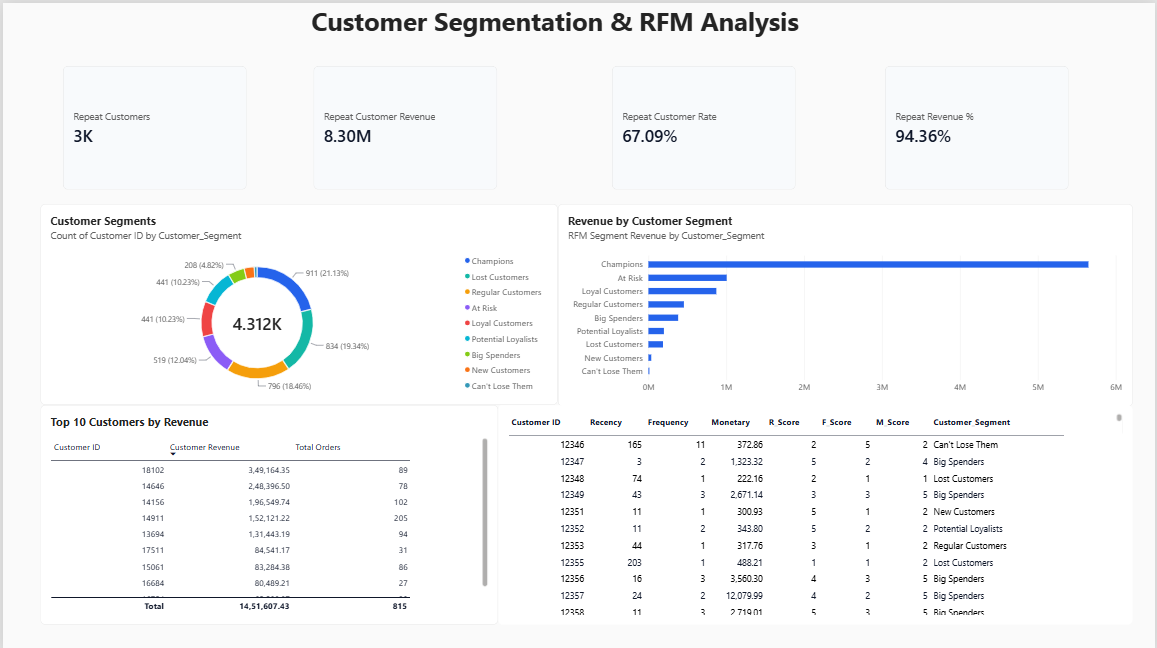

What the dashboard file says about the page in this screenshot:
{"tool":"powerbi","page":{"name":"Customer Analytics","canvas":[1920,1080],"ordinal":1},"visuals":[{"type":"textbox","box":[62.4,0,1715,79.4],"z":0},{"type":"donutChart","title":"Customer Segments","fields":{"Category":["rfm_customer_segments.Customer_Segment"],"Y":["CountNonNull(rfm_customer_segments.Customer ID)"]},"box":[62.4,334.5,861.7,334.5],"z":1000},{"type":"barChart","title":"Revenue by Customer Segment","fields":{"Category":["rfm_customer_segments.Customer_Segment"],"Y":["rfm_customer_segments.RFM Segment Revenue"]},"box":[924.1,334.5,958.1,337.3],"z":2000},{"type":"tableEx","fields":{"Values":["rfm_customer_segments.Customer ID","rfm_customer_segments.Recency","rfm_customer_segments.Frequency","rfm_customer_segments.Monetary","rfm_customer_segments.R_Score","rfm_customer_segments.F_Score","rfm_customer_segments.M_Score","rfm_customer_segments.Customer_Segment"]},"box":[824.9,669,1057.3,365.7],"z":3000},{"type":"tableEx","title":"Top 10 Customers by Revenue","fields":{"Values":["rfm_customer_segments.Customer ID","rfm_customer_segments.Customer Revenue","cleaned_online_retail.Total Orders"]},"box":[62.4,669,762.5,365.7],"z":4000},{"type":"cardVisual","fields":{"Data":["cleaned_online_retail.Repeat Customers"]},"box":[99.2,104.9,306,206],"z":5000},{"type":"cardVisual","fields":{"Data":["cleaned_online_retail.Repeat Revenue %"]},"box":[1471.2,104.9,306,206],"z":6000},{"type":"cardVisual","fields":{"Data":["cleaned_online_retail.Repeat Customer Rate"]},"box":[1014.8,104.9,306,206],"z":7000},{"type":"cardVisual","fields":{"Data":["cleaned_online_retail.Repeat Customer Revenue"]},"box":[518.7,104.9,306,206],"z":8000}]}

Visuals, with their boxes in screenshot pixels (x1, y1, x2, y2), scaled from the page's 1920x1080 canvas onto the 1157x648 screenshot:
textbox: x1=38, y1=0, x2=1071, y2=48
"Customer Segments" donutChart: x1=38, y1=201, x2=557, y2=401
"Revenue by Customer Segment" barChart: x1=557, y1=201, x2=1134, y2=403
tableEx - rfm_customer_segments.Customer ID x rfm_customer_segments.Recency: x1=497, y1=401, x2=1134, y2=621
"Top 10 Customers by Revenue" tableEx: x1=38, y1=401, x2=497, y2=621
cardVisual - cleaned_online_retail.Repeat Customers: x1=60, y1=63, x2=244, y2=187
cardVisual - cleaned_online_retail.Repeat Revenue %: x1=887, y1=63, x2=1071, y2=187
cardVisual - cleaned_online_retail.Repeat Customer Rate: x1=612, y1=63, x2=796, y2=187
cardVisual - cleaned_online_retail.Repeat Customer Revenue: x1=313, y1=63, x2=497, y2=187
